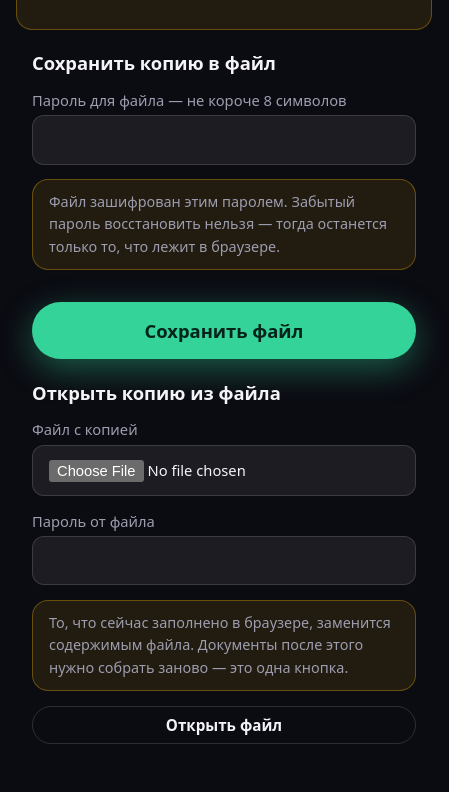
Test: BackupPage › asks for a file when none was chosen
The image size is (449, 792).
(page scrolled)
Type "коробка-с-документами" into the password field labelled "Пароль от файла".
click(224, 561); type("коробка-с-документами")  # box [32, 536, 416, 586]
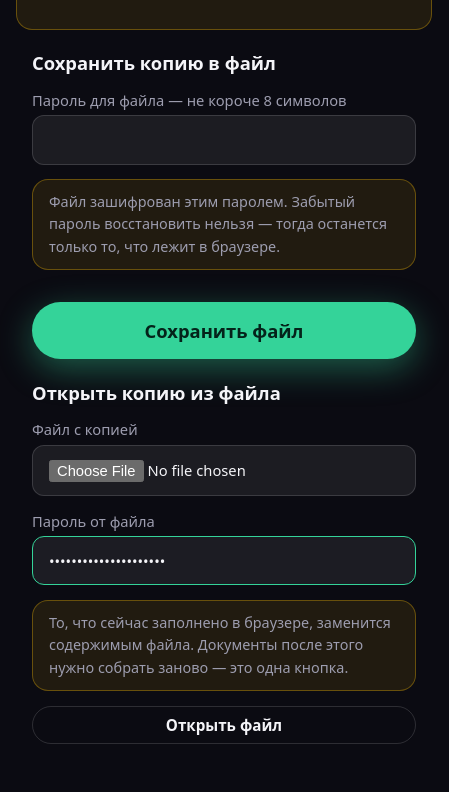
Click the button "Открыть файл".
click(224, 725)  # box [32, 706, 416, 744]
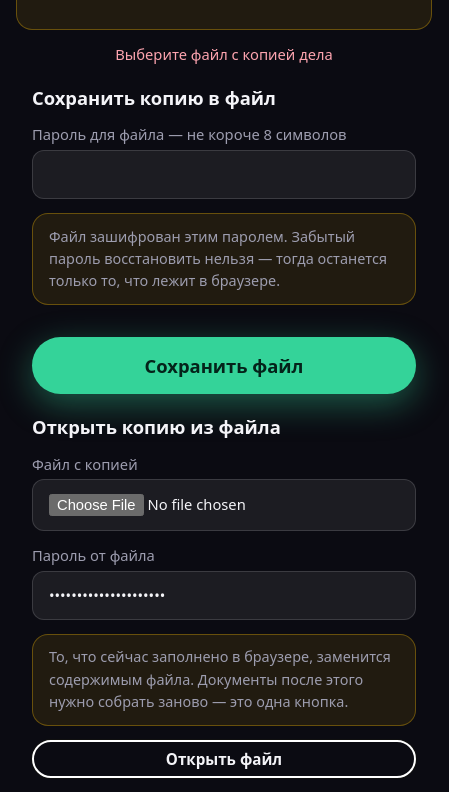
Check: the message shows "Выберите файл", box [115, 44, 333, 64]
